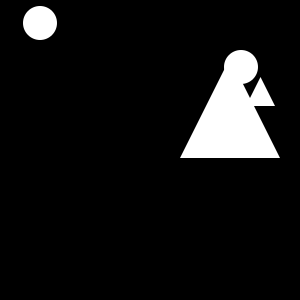rectangle: (224, 50, 258, 84), (23, 6, 57, 40)
triangle: (180, 58, 280, 158), (246, 77, 275, 106)
